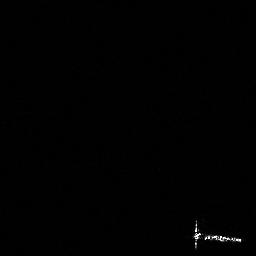ship: (188, 215, 244, 253)
